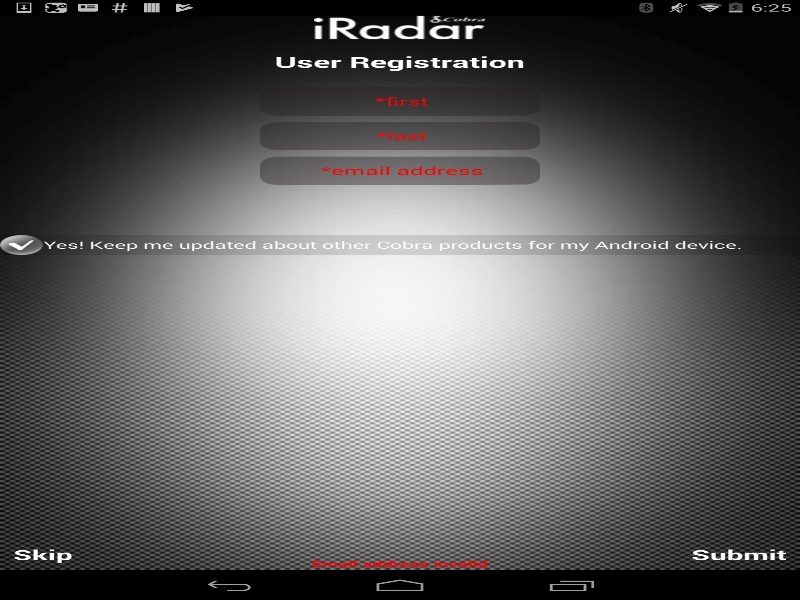Button: (691, 545, 786, 563), (13, 545, 72, 563)
Input: (260, 121, 540, 150), (260, 156, 540, 185), (260, 87, 540, 115)
